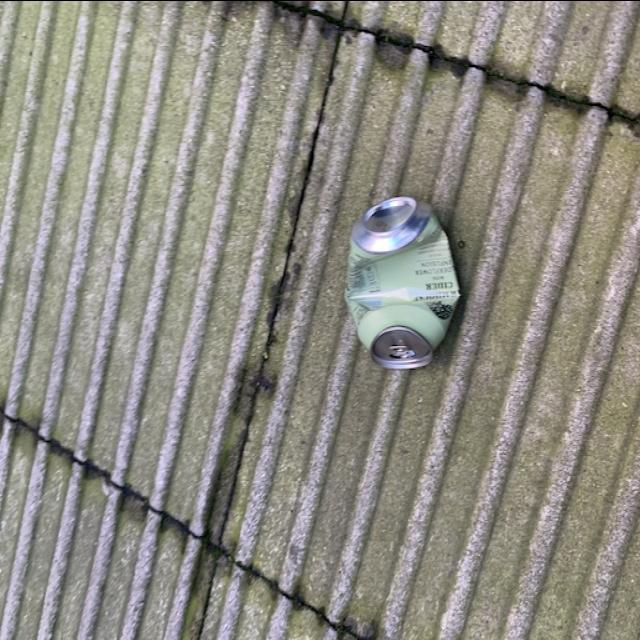Aluminum Can: (346, 189, 472, 379)
